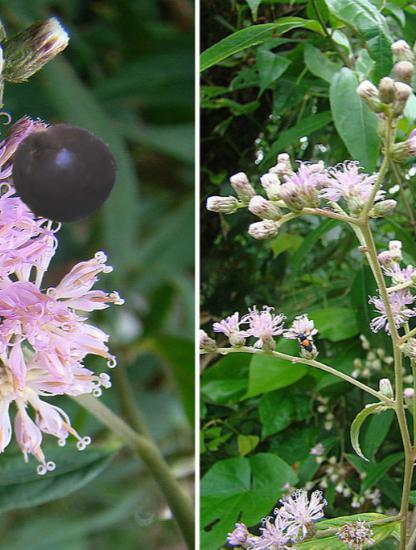Passion: (10, 119, 117, 226)
